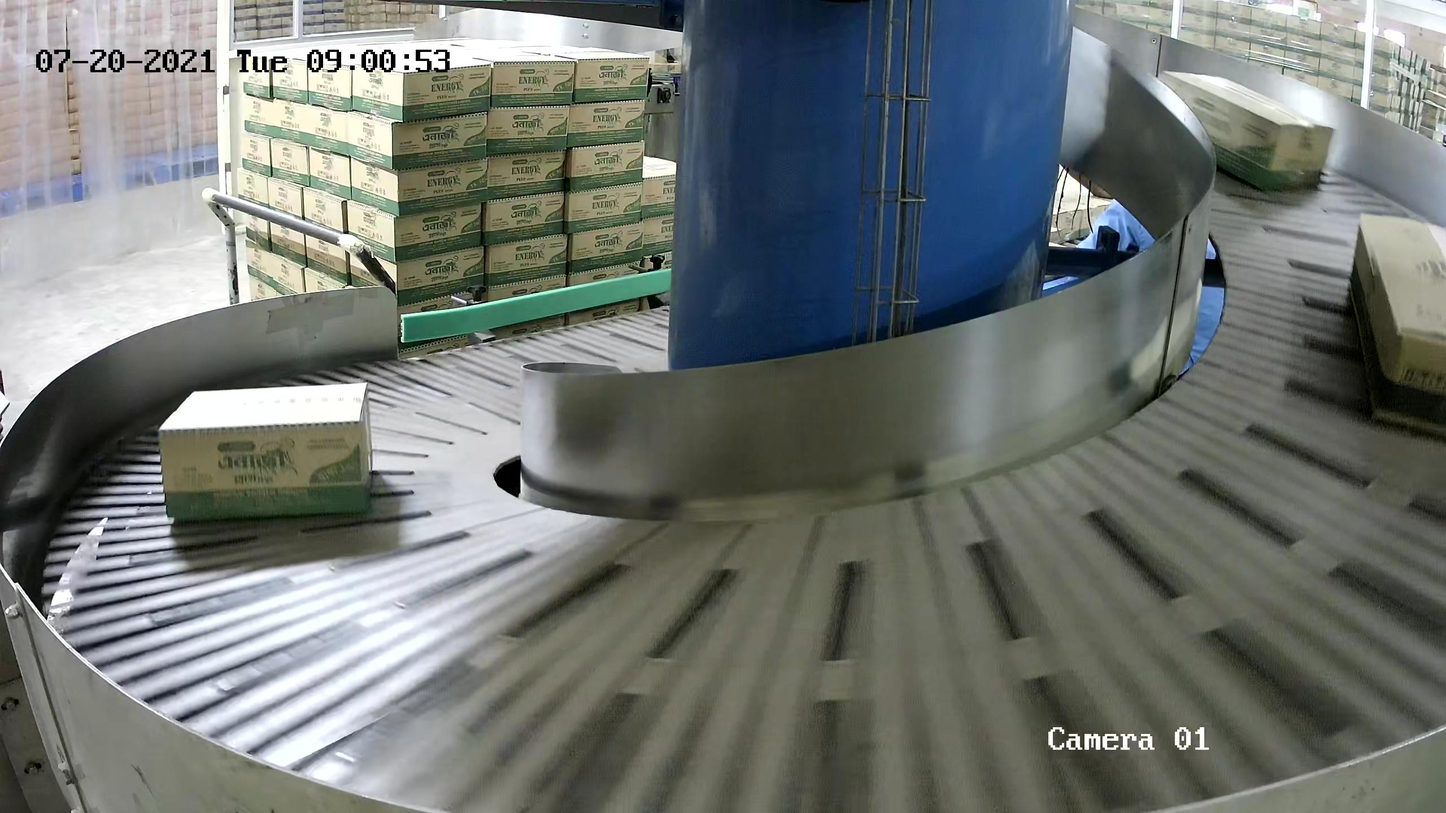Box: (156, 380, 373, 522), (1348, 210, 1446, 436), (1157, 69, 1336, 191)
